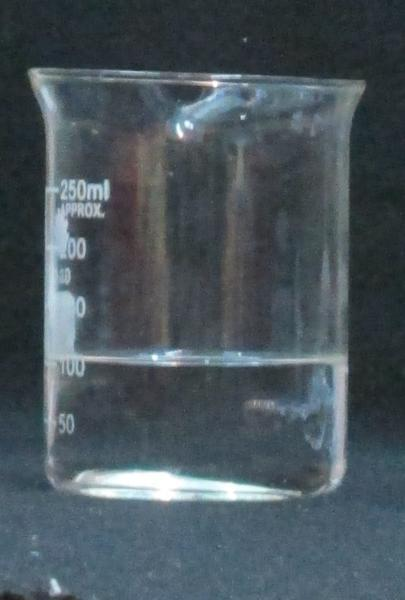Beaker: (21, 55, 368, 512)
